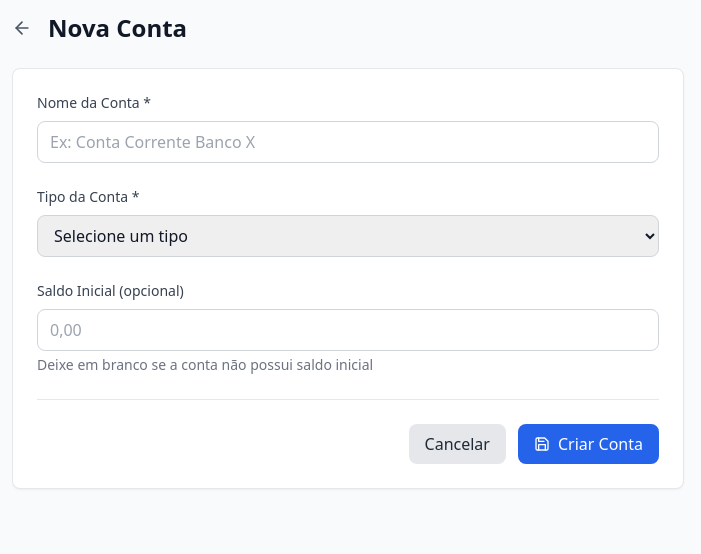
AccountForm › deve mostrar erro se tentar submeter sem preencher campos obrigatórios
This screenshot has width=701, height=554.
# Clica no botão de criar conta sem preencher os campos
Click the button "Criar Conta". click: (588, 444)
box: [518, 424, 659, 464]
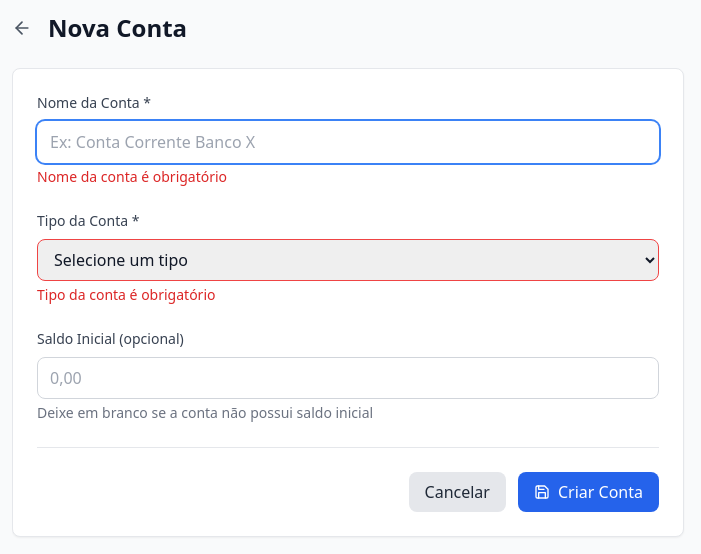
Check: the text "Nome da conta é obrigatório" is shown, box [37, 167, 227, 186]
Check: the text "Tipo da conta é obrigatório" is shown, box [37, 285, 216, 304]
